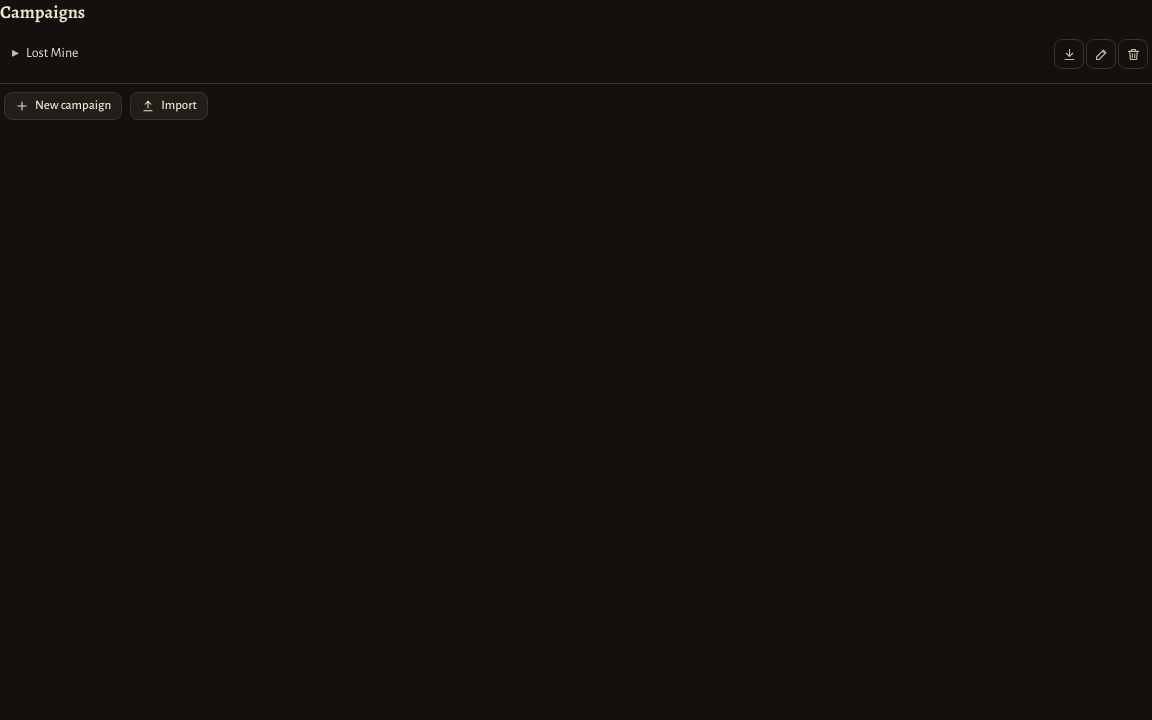
Scenario: deletion with its confirmation (specs/03-domain-model.md §7, D-078) › states what a session deletion removes, warns that the live scene is among it, and deletes on confirm
Click the button "Lost Mine". click: (52, 53)
box: 4,40 -> 1050,68
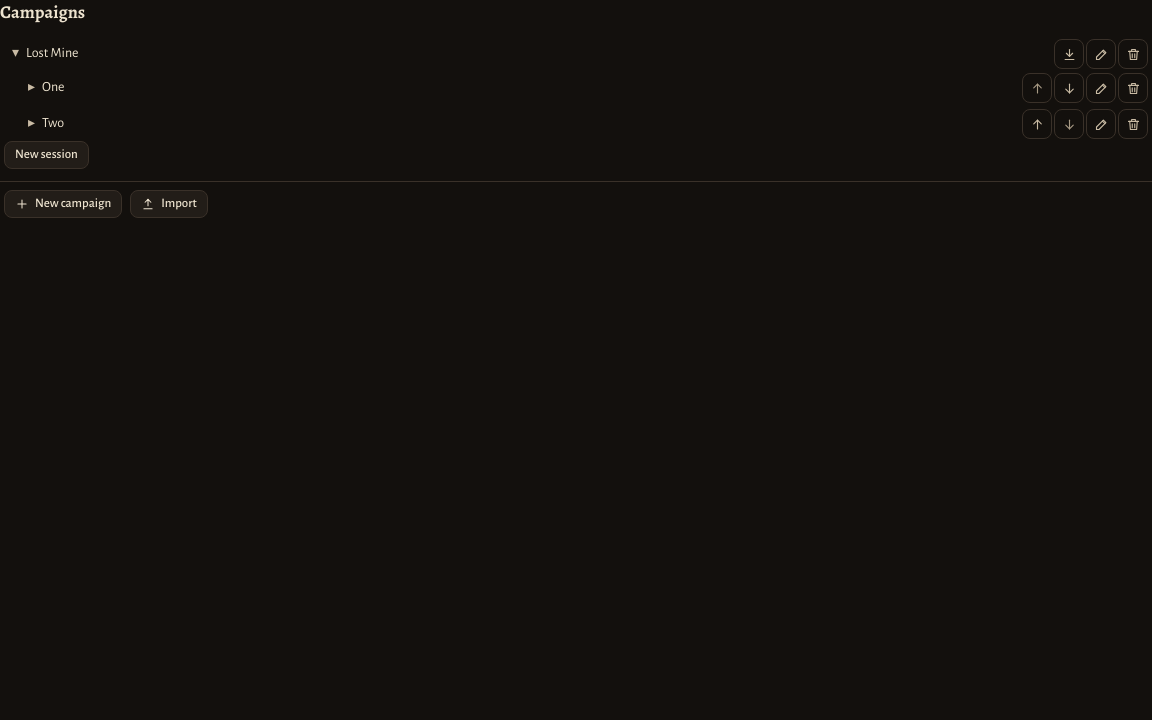
Click the button "One". click: (53, 87)
box: 20,74 -> 1018,102
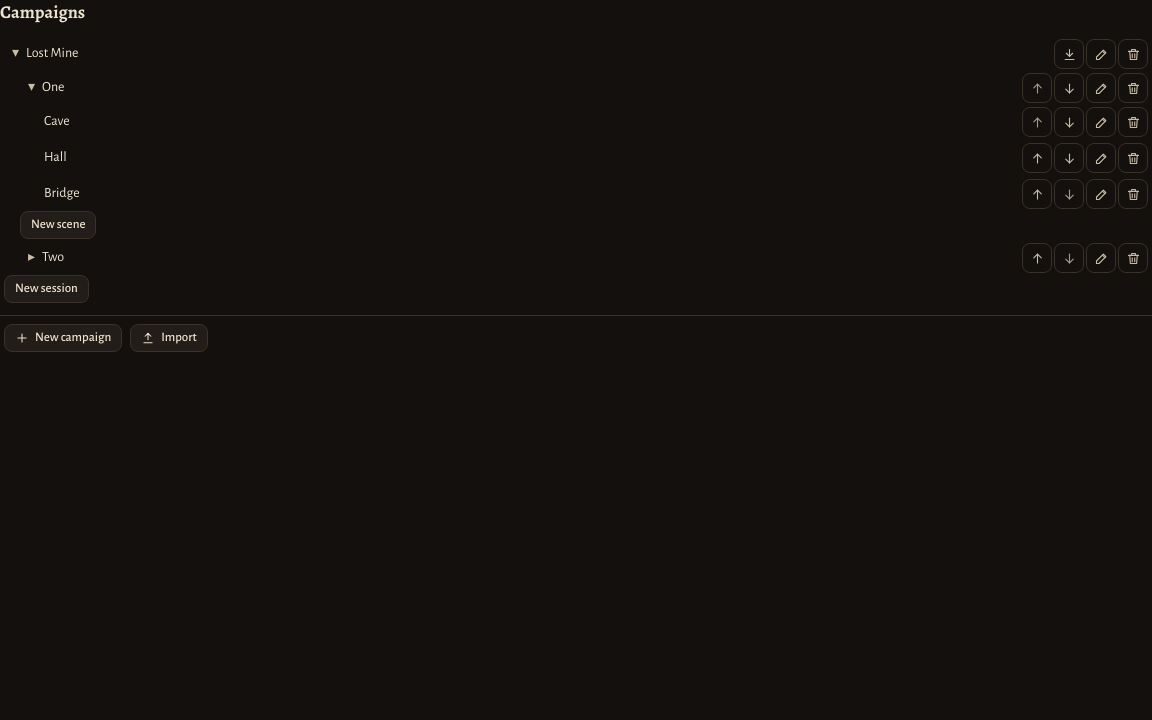
Click the button named "Delete One". click: (1133, 88)
box: 1118,73 -> 1148,103
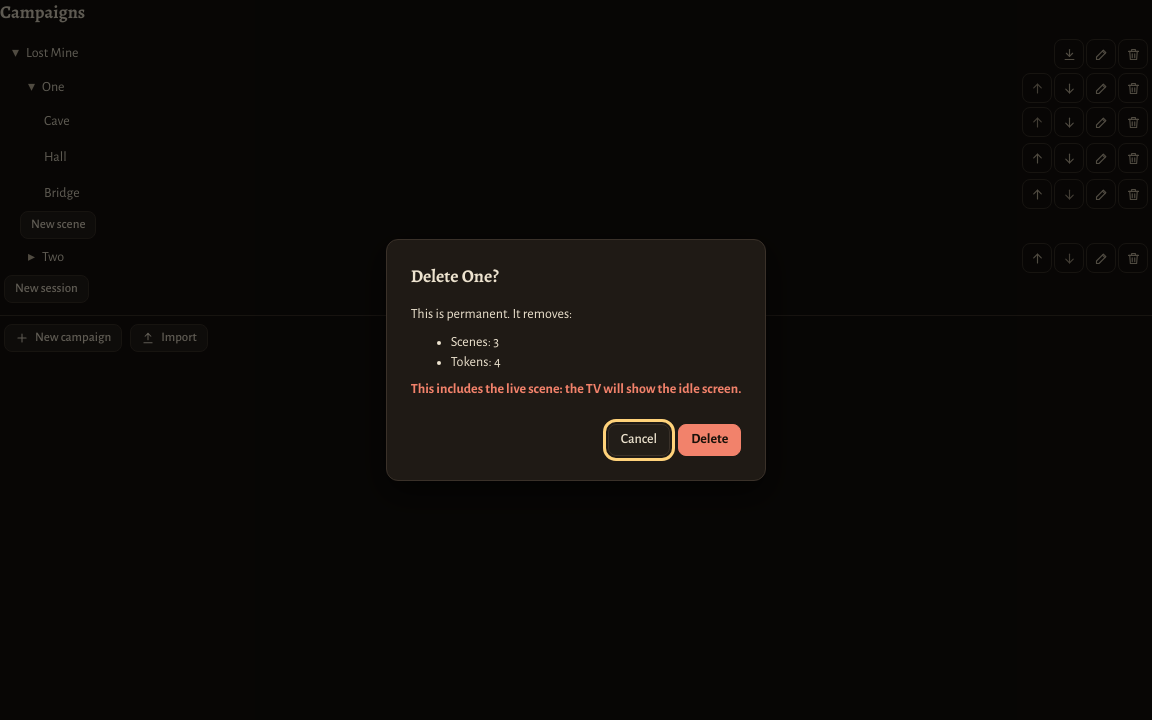
expect the dialog shows "This includes the live scene: the TV will show the idle screen.": met, box 411,382 -> 741,396
Click the button "Delete". click: (710, 440)
box: 678,424 -> 741,456
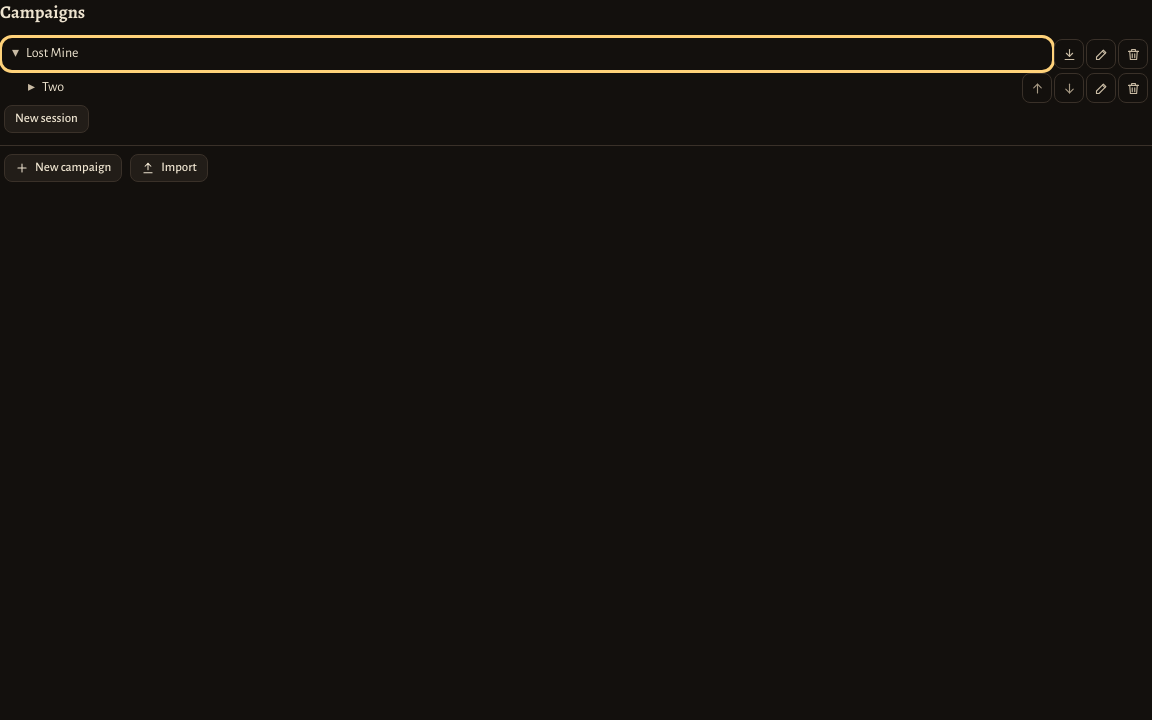
expect the dialog is gone: met
